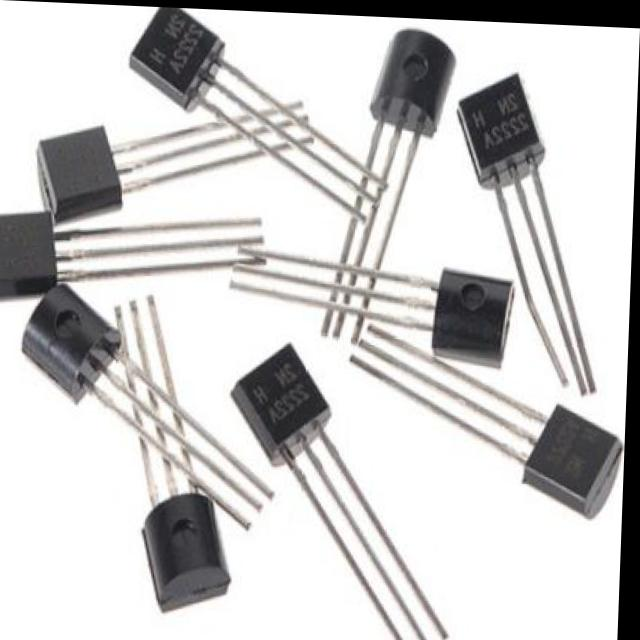Transistor: (234, 342, 334, 466), (23, 284, 126, 404), (525, 399, 626, 516), (144, 492, 236, 611), (458, 69, 549, 189), (127, 6, 224, 112), (368, 24, 457, 135), (37, 125, 123, 228), (433, 264, 515, 363), (0, 210, 59, 302)
